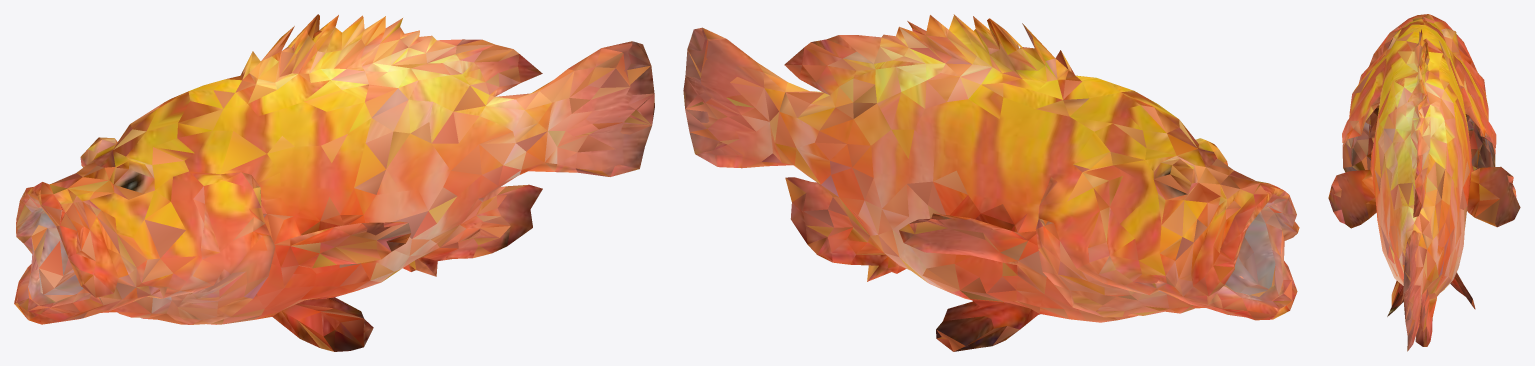
File: grouper.glb
3 views of the same model, side by side, from view 1: azimuth 30°, elevation 25°; view 2: azimuth 150°, elevation 25°; view 3: azimuth 270°, elevation 25° (orthographic). The views are drawn at different scales.
Parts seen in each view (by area): view 1: body; view 2: body; view 3: body.
Boxes of the visible parts, x1,y1,x2,y2 form: body: [14, 14, 654, 351]; body: [683, 14, 1299, 351]; body: [1328, 14, 1520, 351].
Bounding box in the file's own units: 0.9944 × 0.4929 × 0.3193.
1 material, 1 textured.
